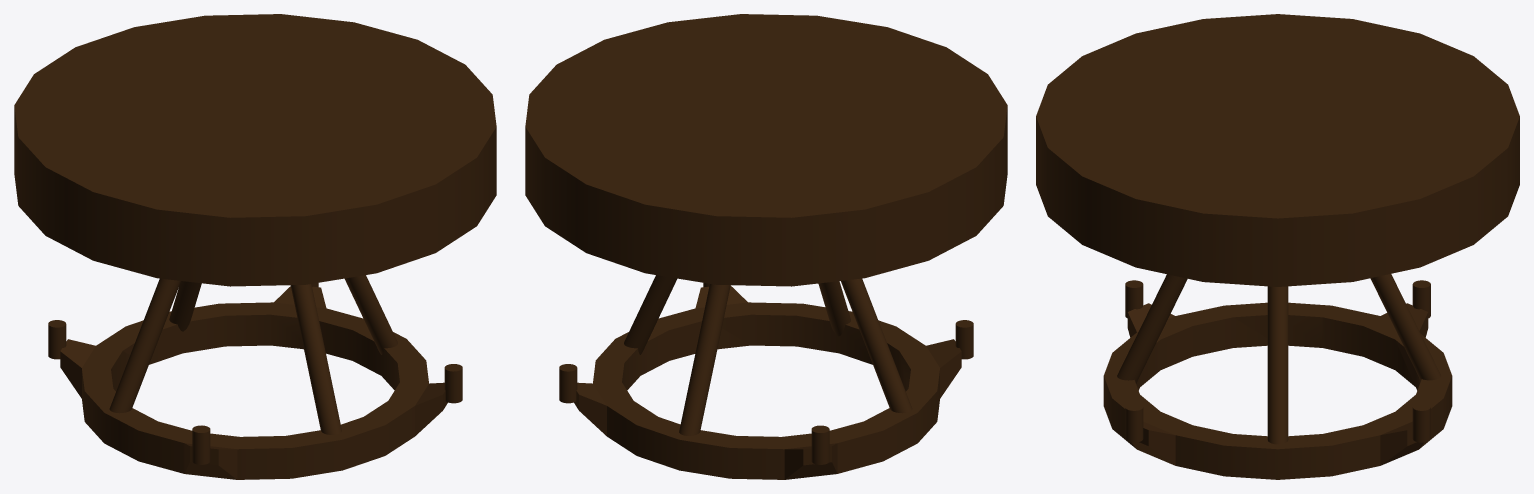
File: CeilingLight.fbx
The picture shows the model from 3 angles, left to right: view 1: azimuth 30°, elevation 25°; view 2: azimuth 150°, elevation 25°; view 3: azimuth 270°, elevation 25°; orthographic projection.
Parts seen in each view (by area): view 1: CeilingLight; view 2: CeilingLight; view 3: CeilingLight.
Part boxes in pixels (<box>): CeilingLight: <box>14,14,496,479</box>; CeilingLight: <box>525,14,1007,479</box>; CeilingLight: <box>1036,14,1519,479</box>.
Size of the model in its own units: 2 by 1.32 by 2.
